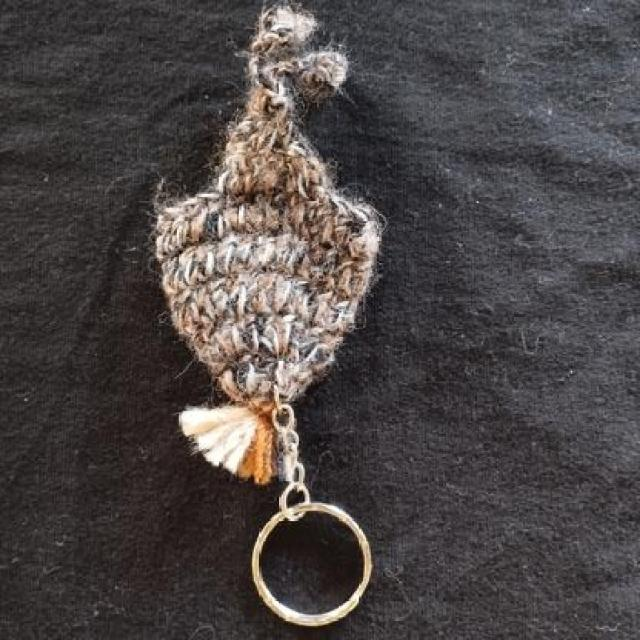Llavero: (152, 0, 386, 488)
